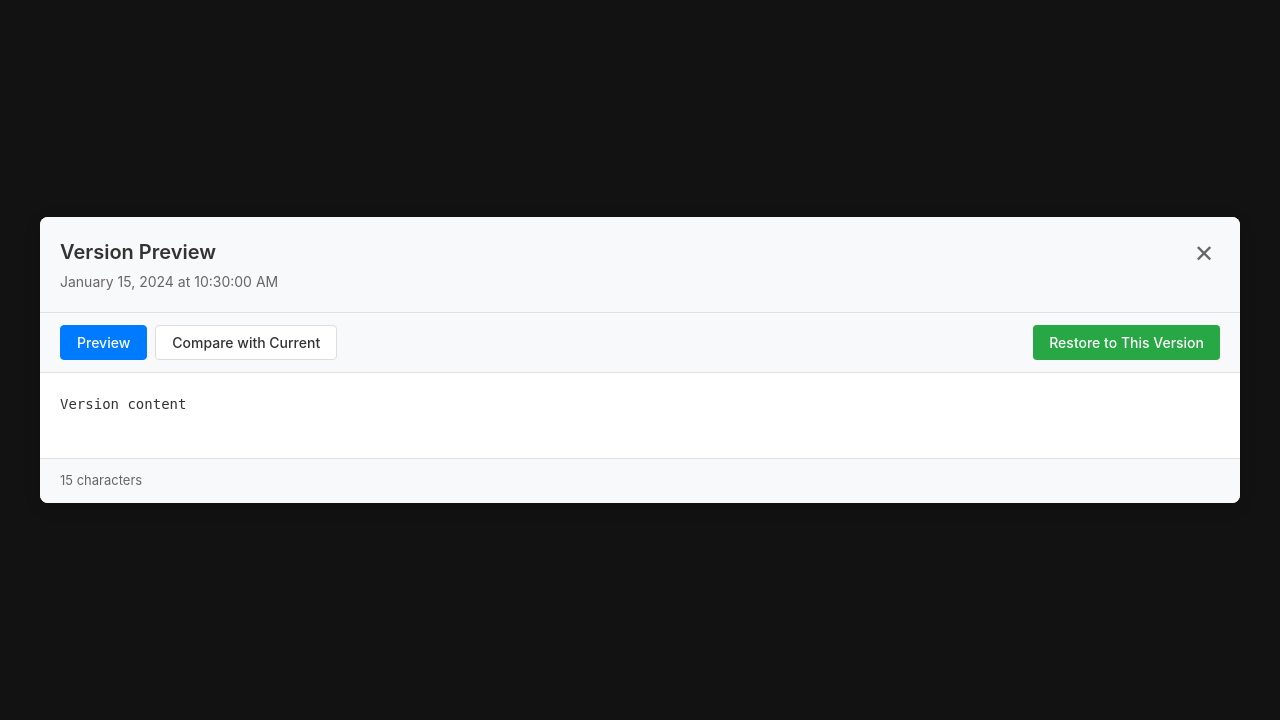
Test: VersionPreview › displays error when restore fails
The image size is (1280, 720).
// Click restore button
Click the button "Restore to This Version". click: x=1127, y=343
box: [1033,325,1220,360]
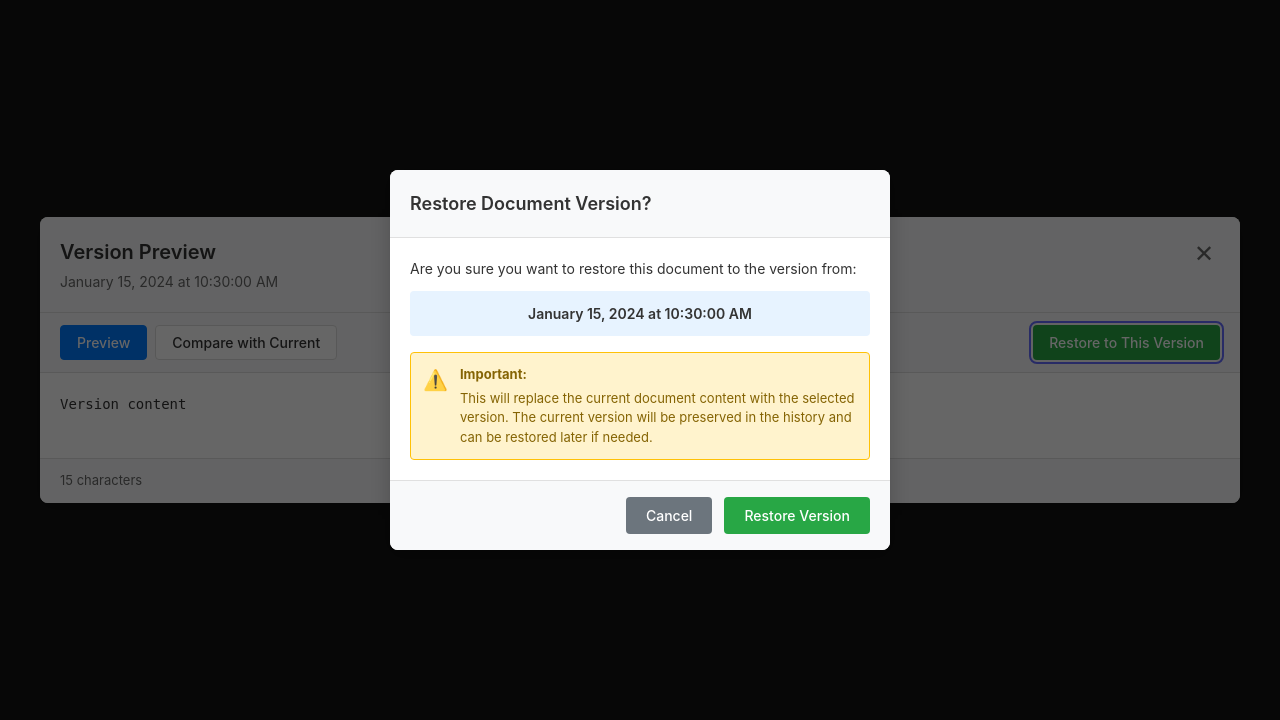
Result: the heading "Restore Document Version?" is shown at [410,193,652,214]
// Click confirm button
Click the button "Restore Version". click: x=797, y=516
box: [724,497,870,534]
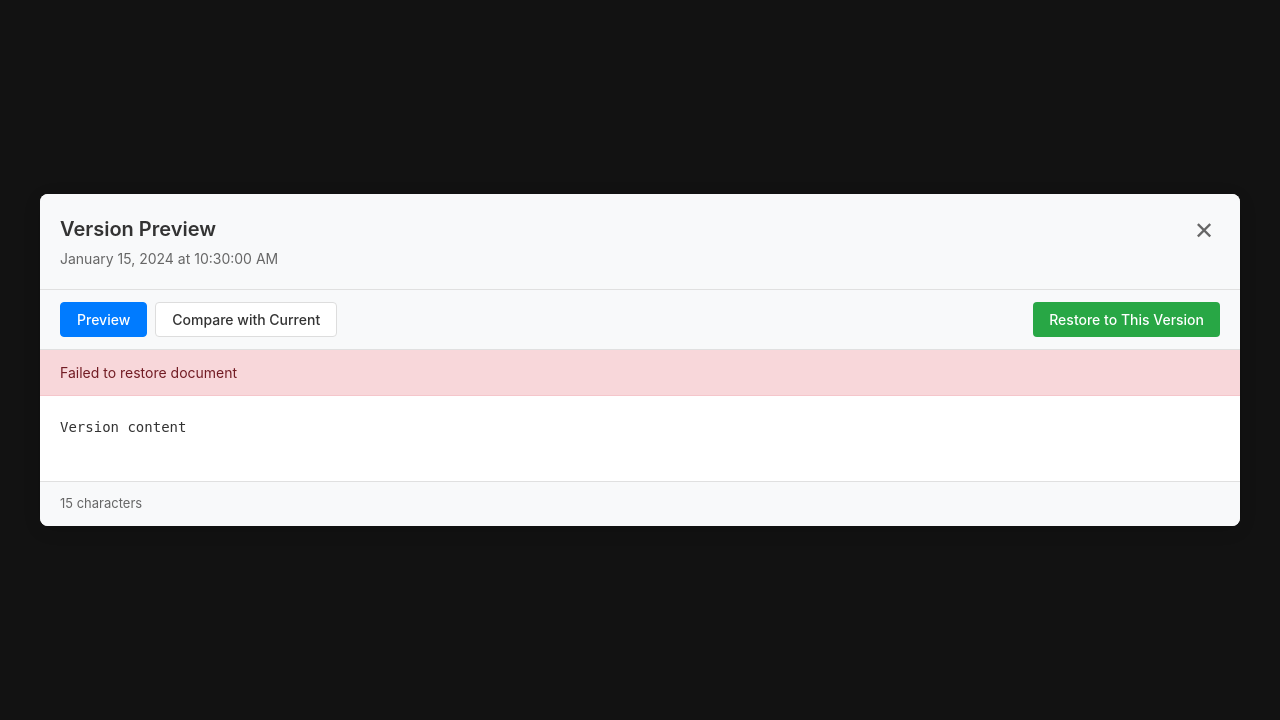
Result: the text "Failed to restore document" is shown at [40,350,1240,396]
